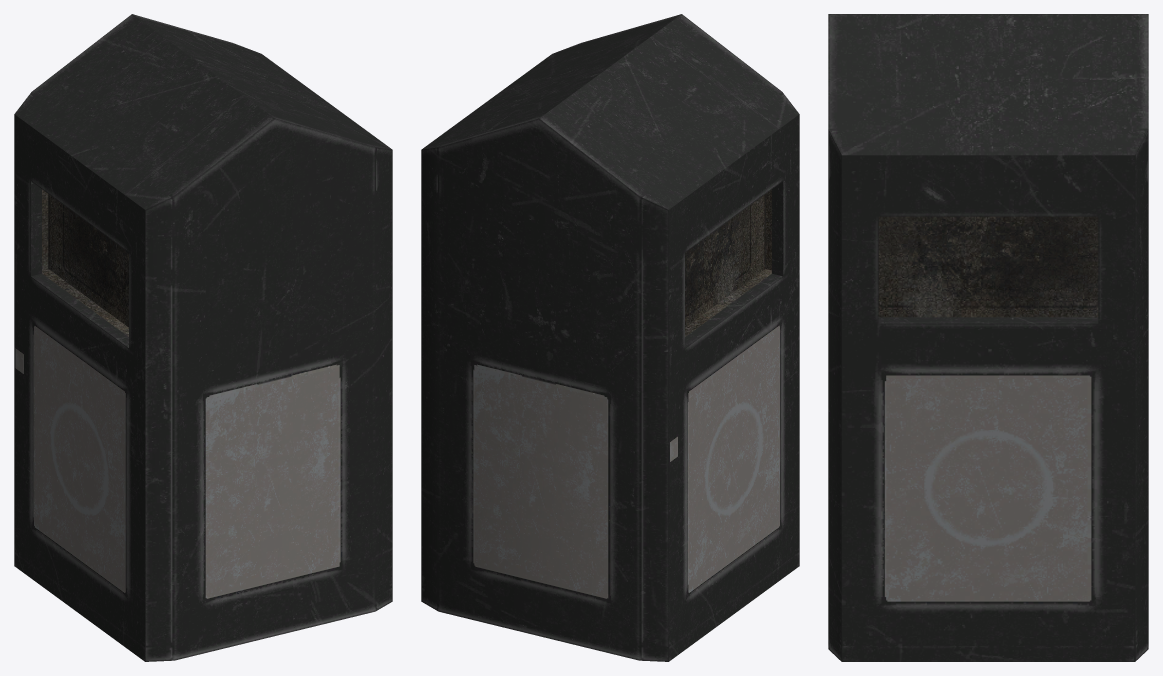
Rendered from SM_Bin.FBX.
3 views of the same model, side by side, from view 1: azimuth 30°, elevation 25°; view 2: azimuth 150°, elevation 25°; view 3: azimuth 270°, elevation 25° (orthographic). The views are drawn at different scales.
Visible parts, largest first — view 1: SM_Bin; view 2: SM_Bin; view 3: SM_Bin.
Boxes of the visible parts, x1,y1,x2,y2 form: SM_Bin: (14, 14, 392, 661); SM_Bin: (421, 14, 799, 661); SM_Bin: (828, 14, 1148, 661).
Bounding box in the file's own units: 50 × 50 × 100.
